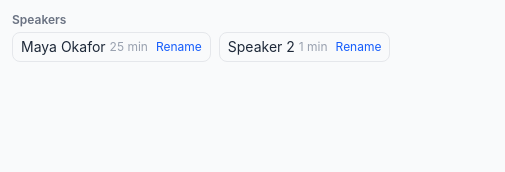
it: SpeakerNames › renames a speaker and tells the page
Step 1. Click the button "Rename" in the row of "Speaker 2" → click(359, 47), box [336,39,382,55]
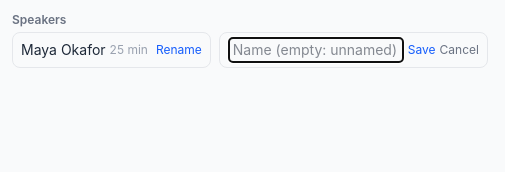
Step 2. Type "Tomás Reyes" into the field named "Name for Speaker 2" → (316, 50), box [228,37,404,63]
Then press Enter
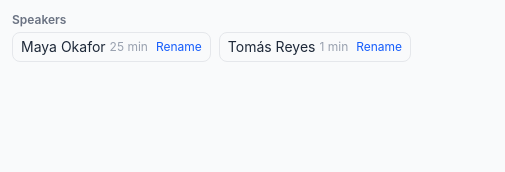
Now the text "Tomás Reyes" is shown, box [228,37,315,57]
